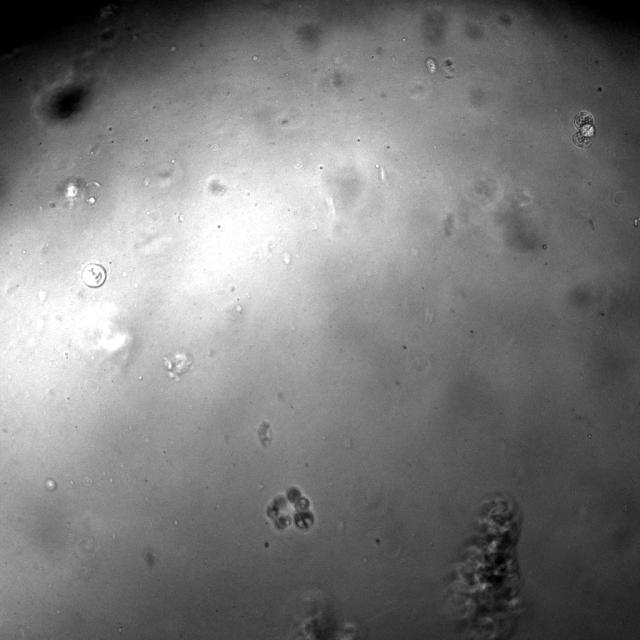organoid: (448, 494, 522, 639), (266, 487, 314, 530), (573, 111, 595, 147), (81, 264, 106, 287)
